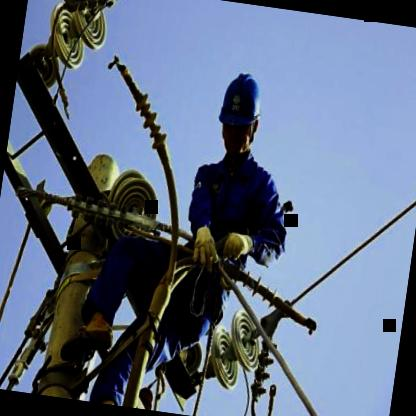helmet: (209, 56, 269, 169)
